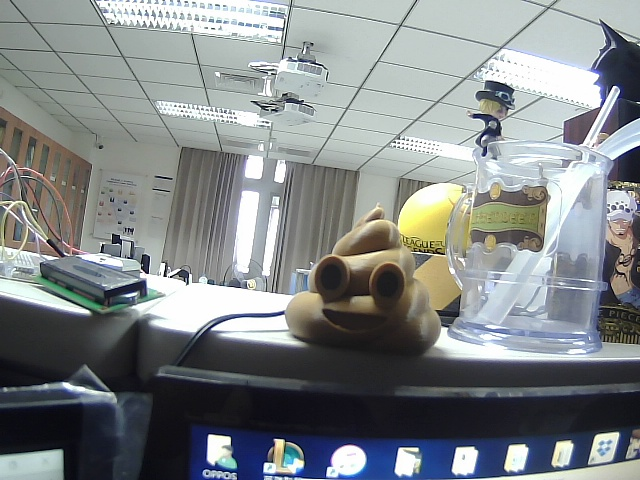shit: (279, 198, 452, 357)
